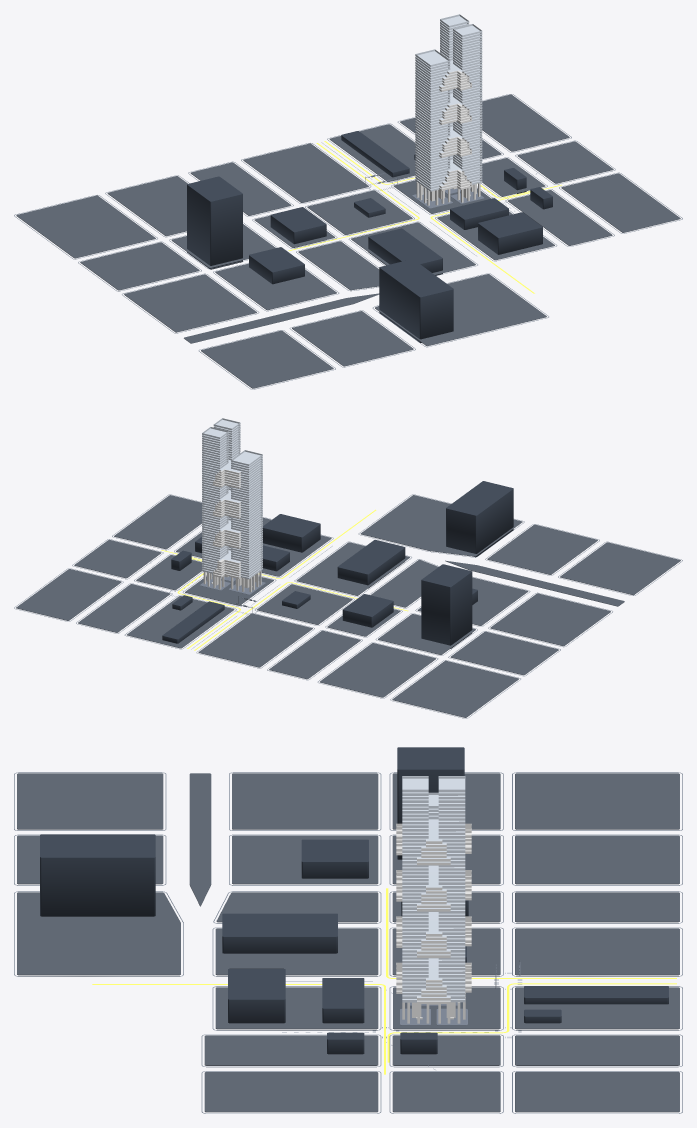
File: mightybuilding.raw.glb
3 renders of one model, top to bottom at view 1: azimuth 30°, elevation 25°; view 2: azimuth 150°, elevation 25°; view 3: azimuth 270°, elevation 25°, orthographic. The views are drawn at different scales.
Visible parts, largest first — view 1: Brick.001, Cube.028, Brick.003, carline, Brick; view 2: Brick.001, Cube.028, Brick.003, Brick, carline; view 3: Brick.001, Cube.028, Brick.003, Brick, carline, f61, Plane.020, f47, f08, f34, f21.
Part boxes in pixels (x1,y1,x2,y2): Brick.001: [16, 94, 680, 388]; Cube.028: [187, 131, 552, 342]; Brick.003: [14, 94, 682, 389]; carline: [288, 141, 561, 293]; Brick: [394, 180, 490, 213]; Brick.001: [16, 495, 680, 717]; Cube.028: [162, 481, 513, 648]; Brick.003: [14, 494, 682, 718]; Brick: [185, 574, 273, 605]; carline: [161, 509, 408, 650]; Brick.001: [17, 773, 679, 1112]; Cube.028: [40, 747, 668, 1054]; Brick.003: [14, 772, 682, 1113]; Brick: [393, 987, 500, 1029]; carline: [92, 888, 676, 1074]; f61: [402, 776, 465, 792]; Plane.020: [400, 1002, 467, 1025]; f47: [396, 819, 471, 843]; f08: [396, 958, 471, 982]; f34: [396, 865, 471, 890]; f21: [396, 912, 471, 936].
Size of the model in its own units: 718 by 235 by 595.
